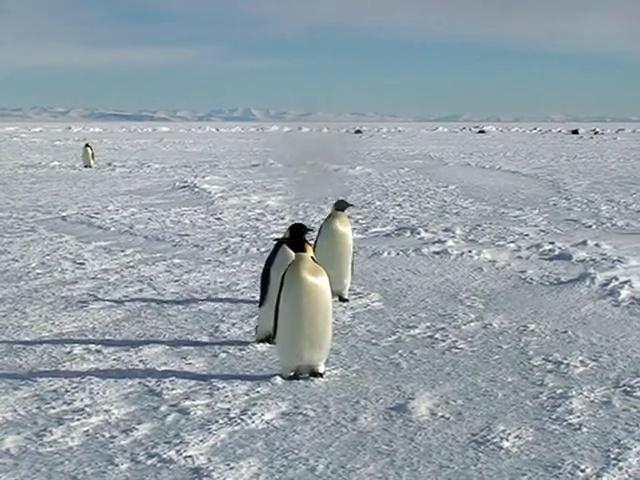animal: (315, 200, 355, 303)
